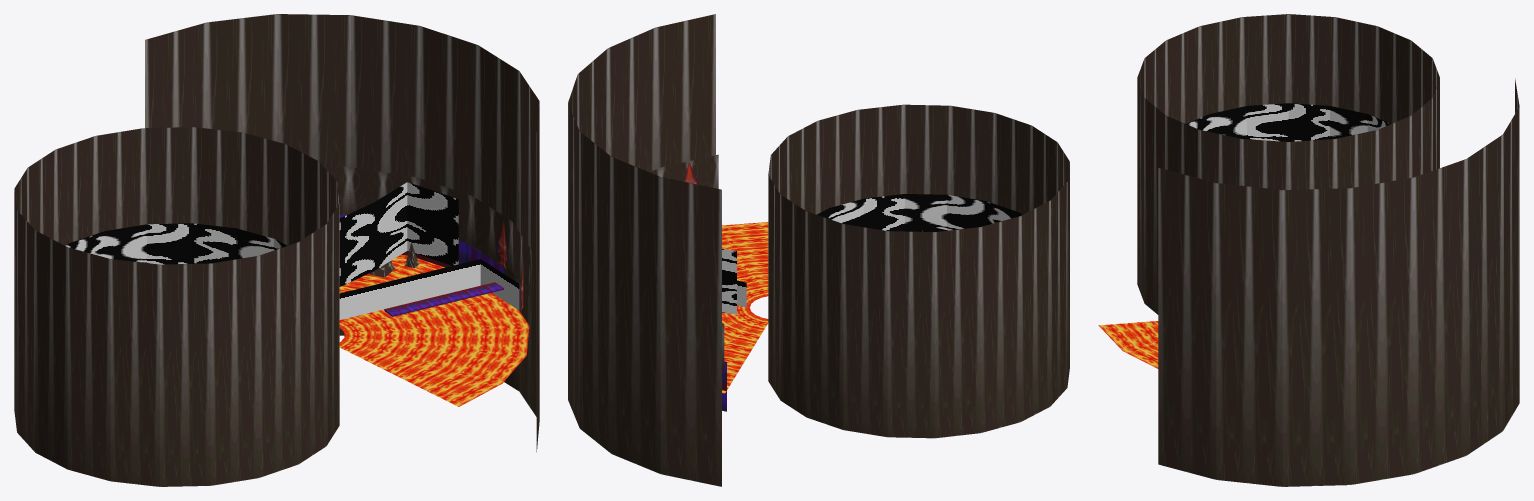
3 renders of one model, left to right at view 1: azimuth 30°, elevation 25°; view 2: azimuth 150°, elevation 25°; view 3: azimuth 270°, elevation 25°, orthographic. The views are drawn at different scales.
Visible parts, largest first — view 1: bosslevel; view 2: bosslevel; view 3: bosslevel.
Part boxes in pixels (x1,y1,x2,y2): bosslevel: (14,14,539,486); bosslevel: (568,14,1069,486); bosslevel: (1098,14,1519,486).
Bounding box in the file's own units: 11496 × 7327 × 9421.
Materials: 9 (9 with a texture image).
